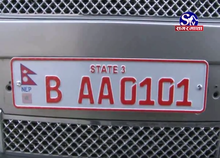number_plate: (9, 54, 209, 115)
